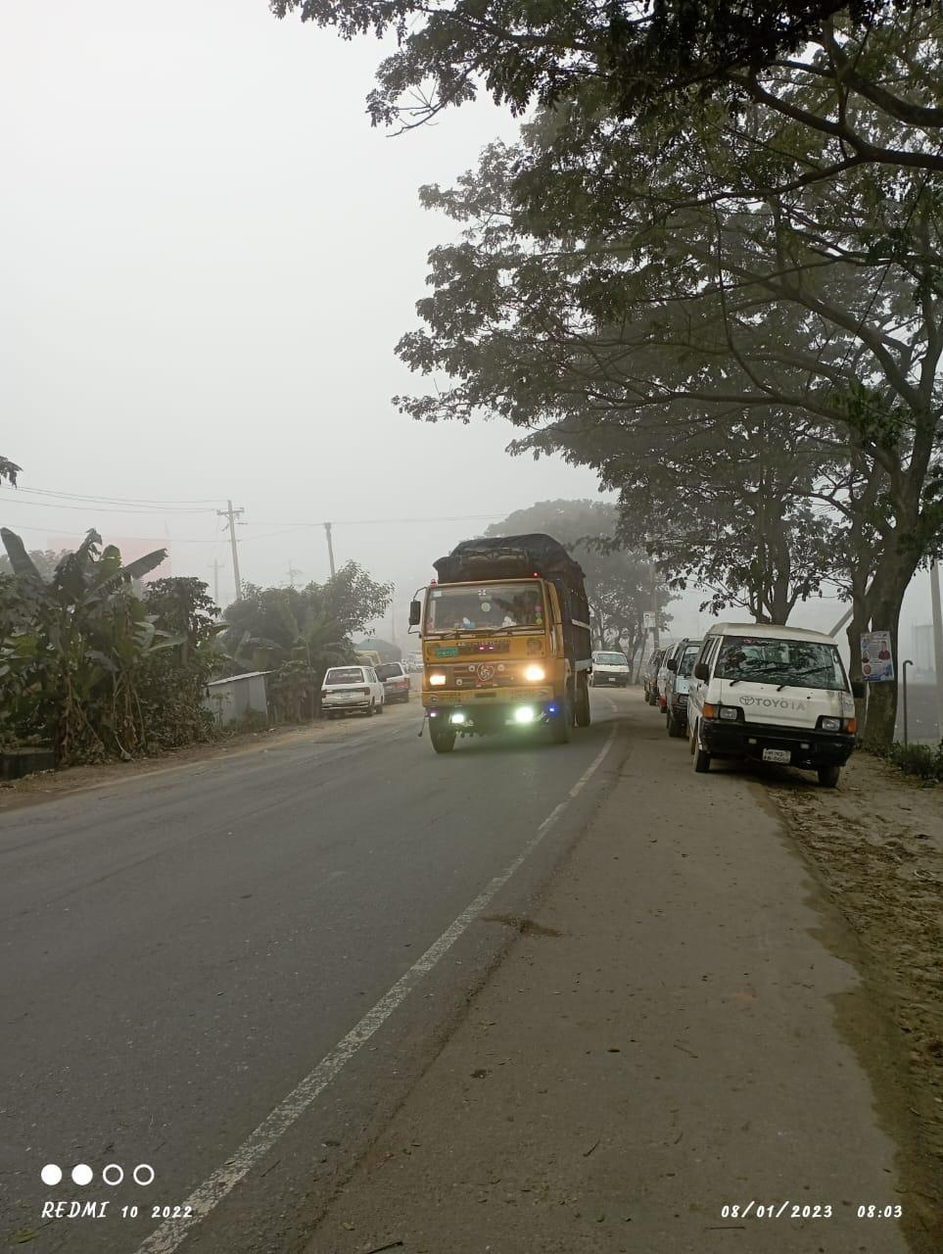Car: (685, 622, 872, 796), (313, 663, 386, 713), (591, 646, 637, 687)
Truck: (401, 536, 599, 752)
